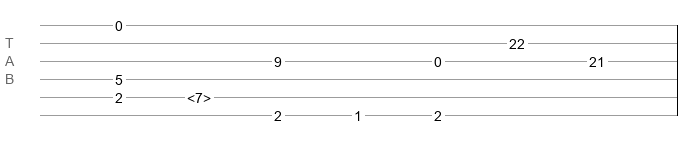0: (115, 18, 123, 28), (434, 54, 442, 64)
1: (354, 108, 362, 118)
2: (115, 90, 123, 100), (274, 108, 282, 118), (434, 108, 442, 118)
21: (589, 54, 605, 64)
22: (509, 36, 525, 46)
5: (115, 72, 123, 82)
9: (274, 54, 282, 64)
harmonic: (187, 90, 211, 100)
